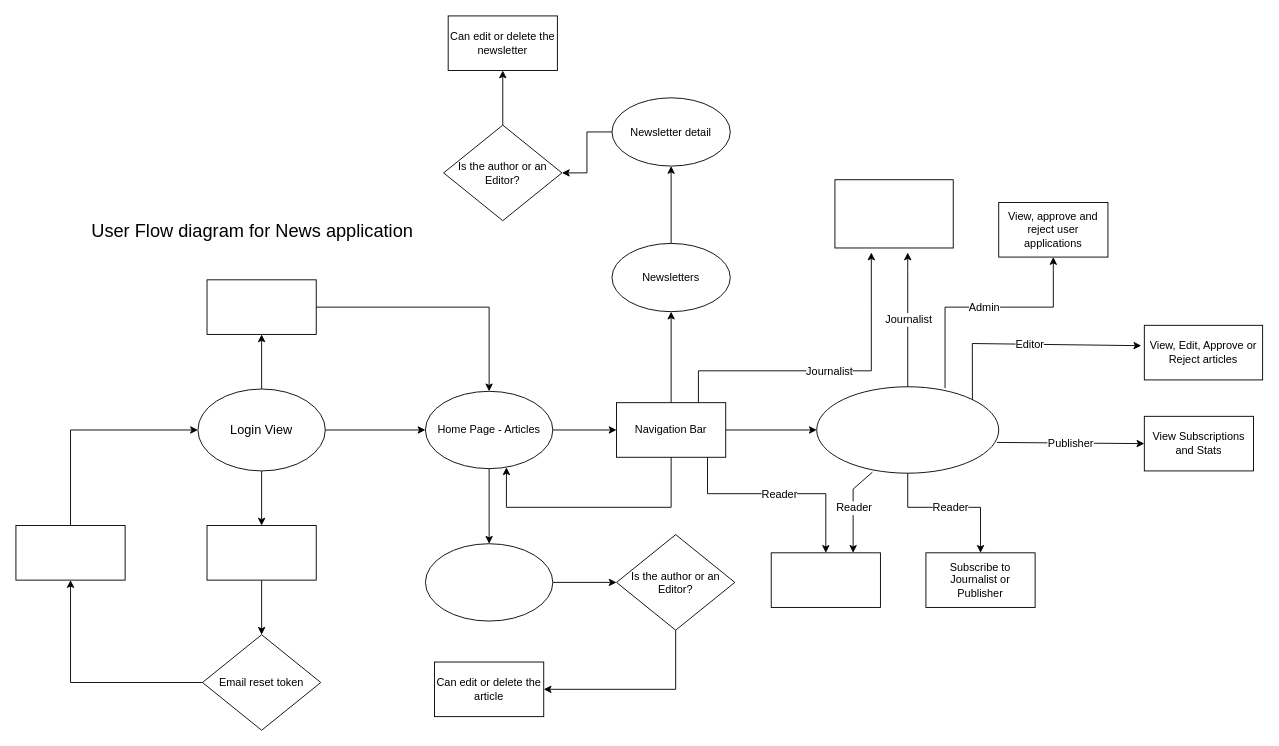
Some shapes in this 1279 by 746 pixel diagram are drawn without their labels. Each missing label, with the box of its shape:
Apply for role: (770, 552, 880, 607)
Article Detail: (425, 543, 553, 621)
Forgot Password: (206, 525, 316, 580)
Password reset: (15, 525, 125, 580)
Register: (206, 279, 316, 334)
Submit new article or create newsletter: (834, 179, 953, 248)
User Dashboard (based on role): (816, 386, 999, 473)
